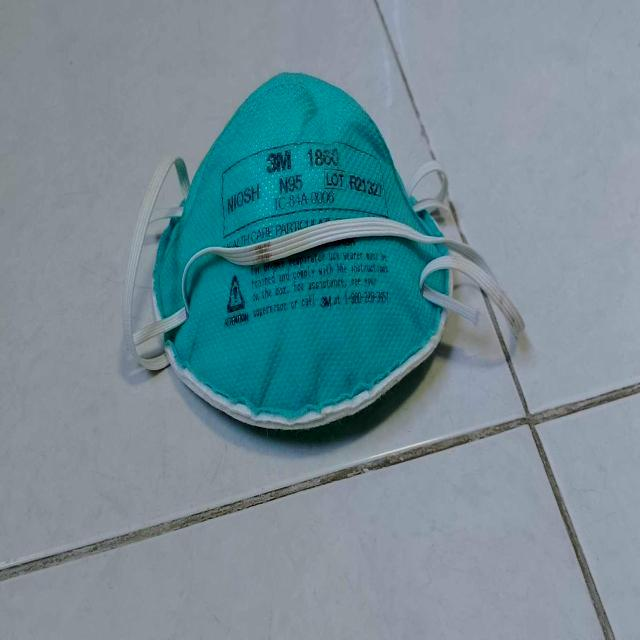Infectious: (129, 70, 522, 432)
